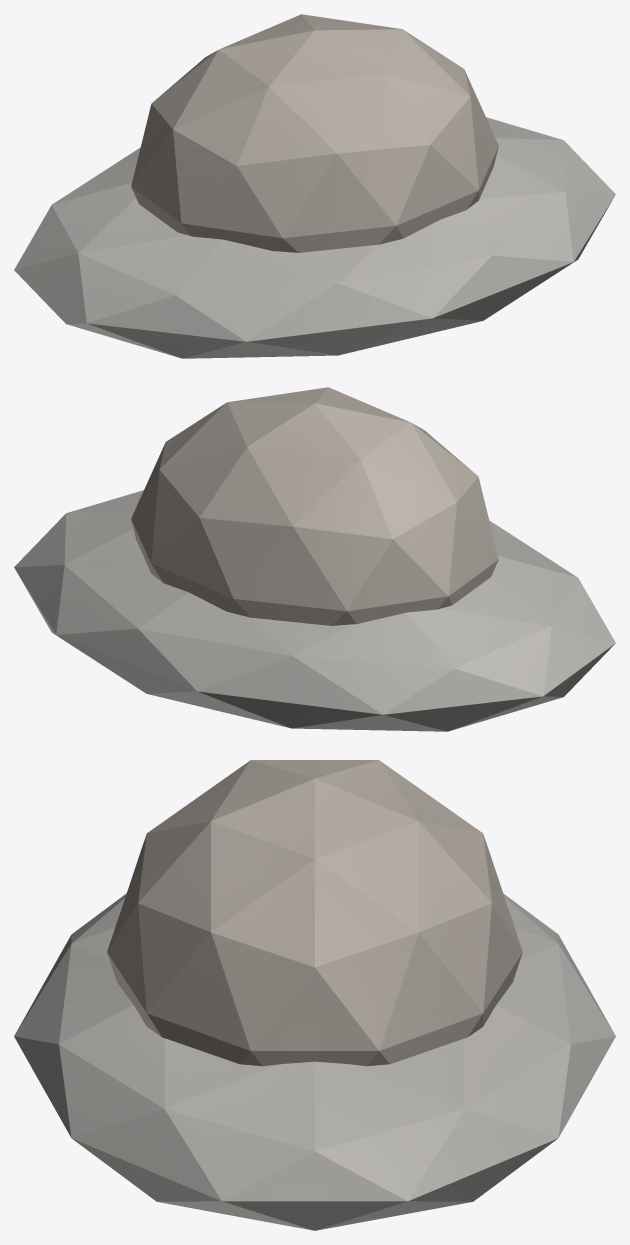
The model's file is rocks.glb.
The picture shows the model from 3 angles, top to bottom: view 1: azimuth 30°, elevation 25°; view 2: azimuth 150°, elevation 25°; view 3: azimuth 270°, elevation 25°; orthographic projection. The views are drawn at different scales.
Visible parts, largest first — view 1: Rock_Flat, Rock_Medium; view 2: Rock_Flat, Rock_Medium; view 3: Rock_Medium, Rock_Flat.
Boxes of the visible parts, left/top/right/bottom form: Rock_Flat: left=14, top=117, right=615, bottom=358; Rock_Medium: left=131, top=14, right=498, bottom=252; Rock_Flat: left=14, top=490, right=615, bottom=731; Rock_Medium: left=131, top=387, right=498, bottom=625; Rock_Medium: left=107, top=760, right=522, bottom=1066; Rock_Flat: left=14, top=893, right=615, bottom=1230.
Bounding box in the file's own units: 1.43 × 0.7 × 1.1.
Materials: 2 (2 with a texture image).
